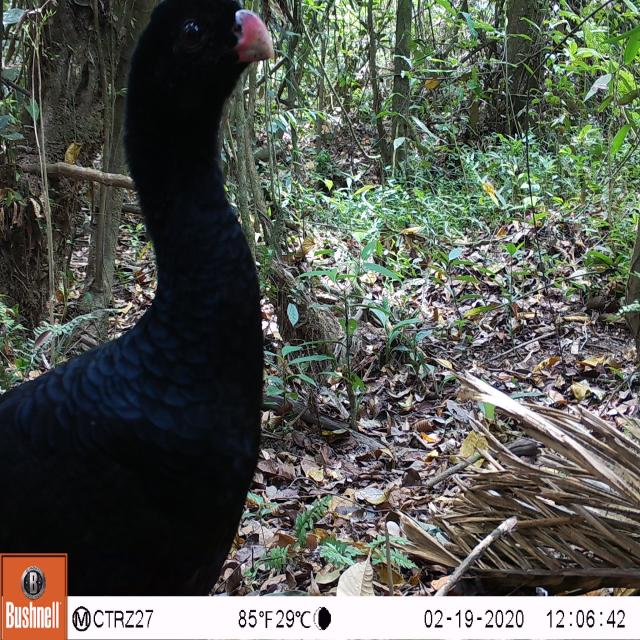Salvins Curassow: (0, 0, 289, 594)
